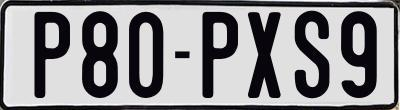0: (127, 11, 167, 99)
8: (81, 11, 121, 100)
9: (338, 8, 375, 98)
P: (34, 12, 72, 99), (202, 9, 239, 97)
S: (293, 10, 329, 101)
X: (248, 12, 281, 99)
